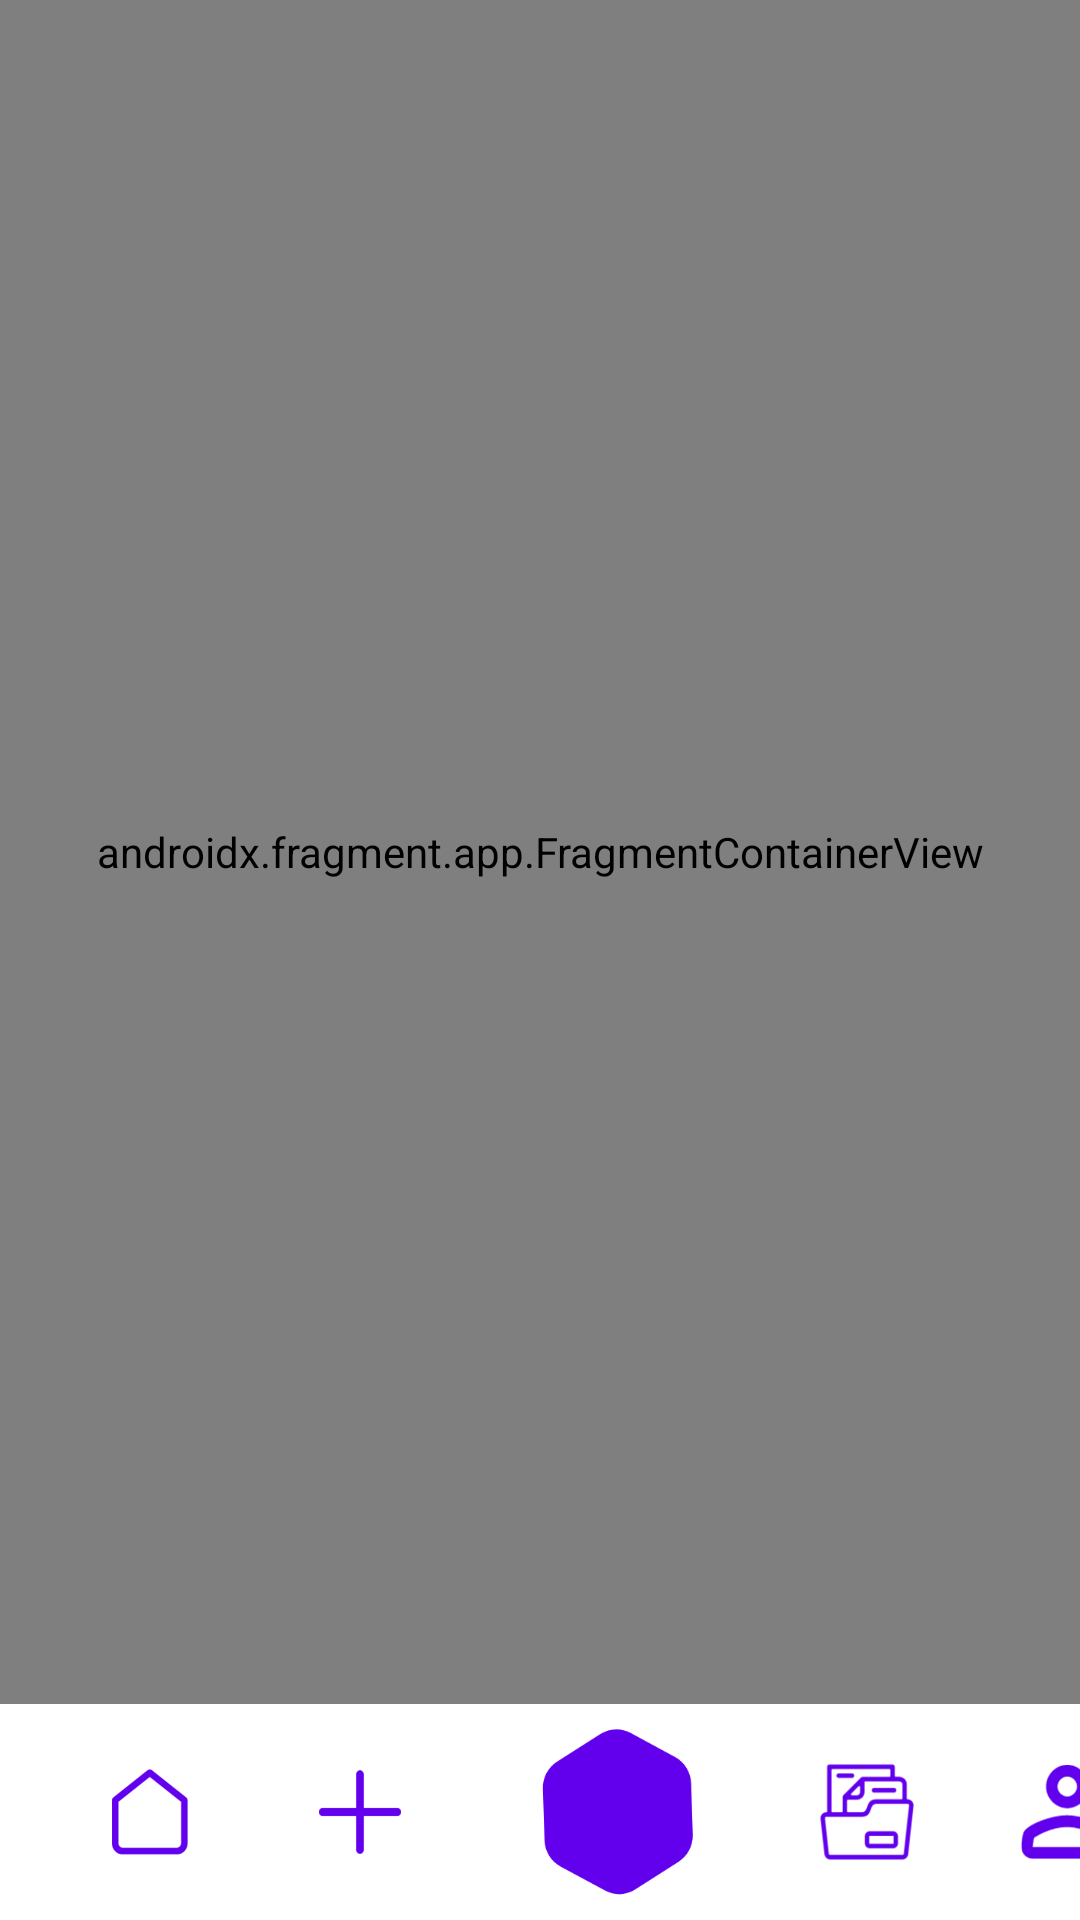

Locate icon controls on the screen. Image size 1080 x 1920, boxes as (x1, y1, x2, y2).
ir al home: (112, 1769, 188, 1855)
